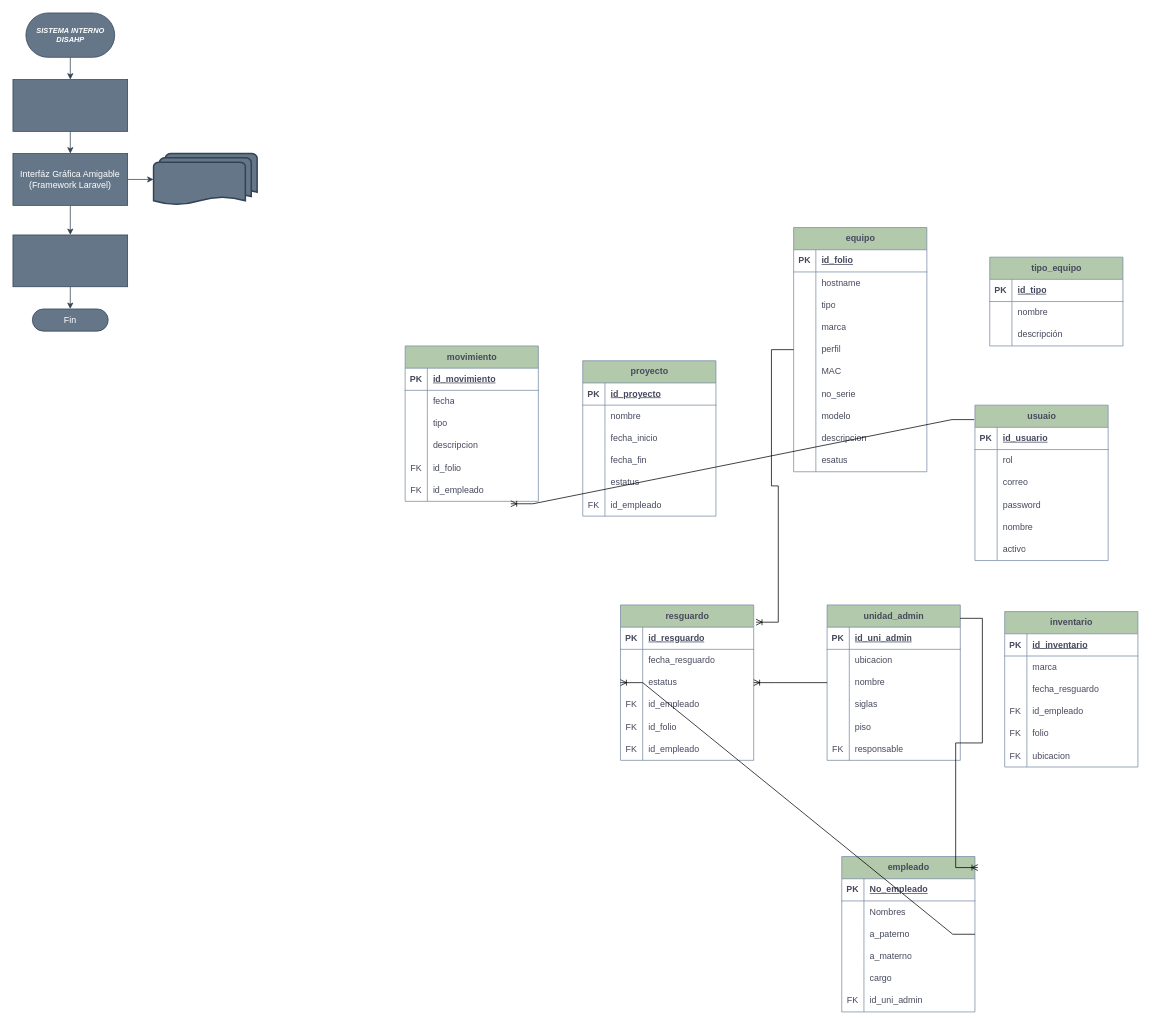
Image size: 1151x1025. Some labels were removed from this diagram. The centre of each missing label's shape, as x and y in pixels:
"Base de Datos (PostgreSQL)" belongs at [70,105].
"Generar Reportes Automáticos" belongs at [205,179].
"Registro de Clientes y Proyectos" belongs at [70,260].
